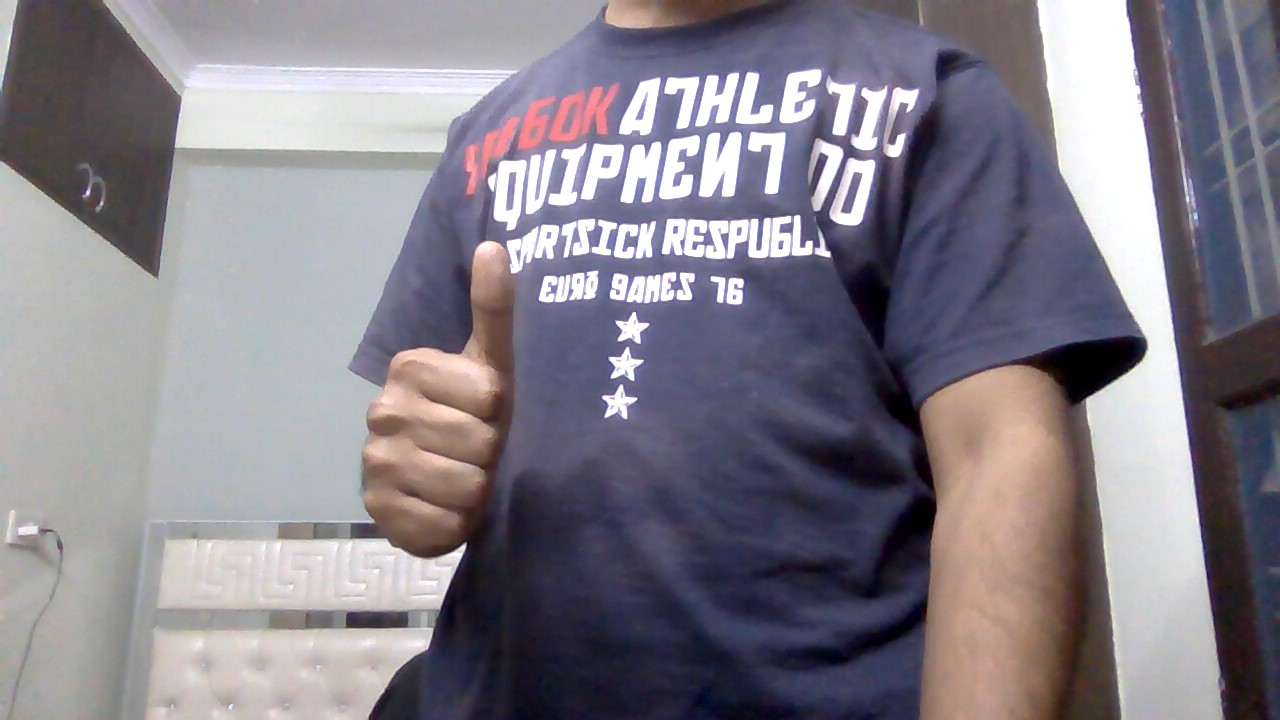Save: (348, 230, 533, 566)
